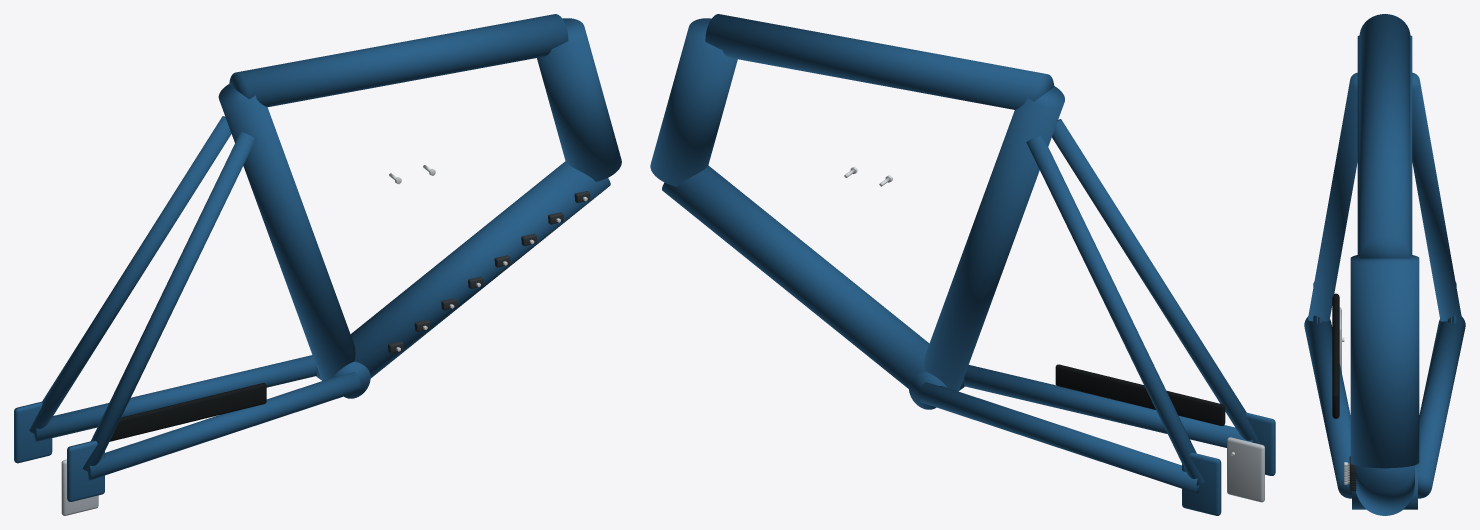
Rendered from frame_LOD0.fbx.
The picture shows the model from 3 angles, left to right: view 1: azimuth 30°, elevation 25°; view 2: azimuth 150°, elevation 25°; view 3: azimuth 270°, elevation 25°; orthographic projection. The views are drawn at different scales.
Visible parts, largest first — view 1: MM_frame_main_weldment, MM_frame_chainstay_protector, MM_frame_derailleur_hanger; view 2: MM_frame_main_weldment, MM_frame_chainstay_protector, MM_frame_derailleur_hanger; view 3: MM_frame_main_weldment, MM_frame_chainstay_protector.
Boxes of the visible parts, x1,y1,x2,y2 form: MM_frame_main_weldment: [14, 14, 621, 501]; MM_frame_chainstay_protector: [109, 383, 266, 441]; MM_frame_derailleur_hanger: [61, 459, 98, 515]; MM_frame_main_weldment: [650, 14, 1275, 515]; MM_frame_chainstay_protector: [1055, 364, 1225, 425]; MM_frame_derailleur_hanger: [1227, 437, 1264, 502]; MM_frame_main_weldment: [1304, 14, 1465, 515]; MM_frame_chainstay_protector: [1332, 293, 1339, 418].
Size of the model in its own units: 0.9317 by 0.5875 by 0.1779.
